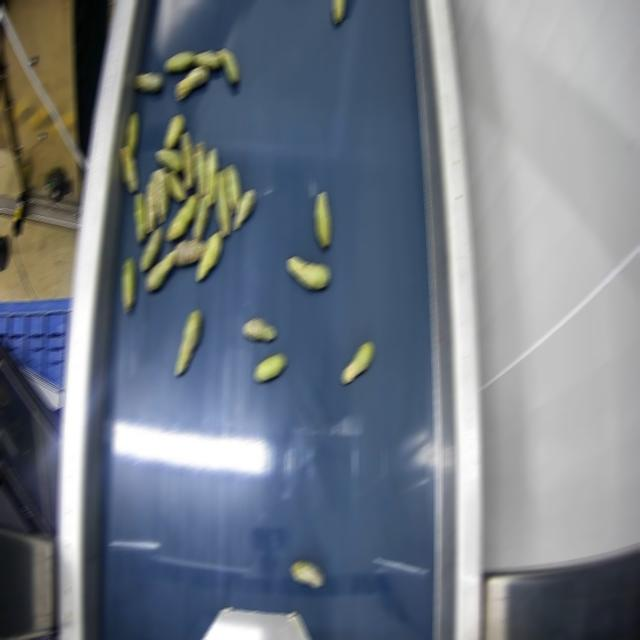Baby Potato: (175, 308, 202, 374), (286, 256, 330, 289), (168, 192, 198, 238), (342, 340, 374, 383), (196, 230, 222, 281), (146, 249, 176, 290), (175, 66, 207, 100), (290, 558, 324, 588), (253, 351, 286, 381), (215, 170, 230, 236), (140, 228, 162, 272), (314, 189, 330, 247), (233, 188, 255, 230), (172, 238, 205, 265), (242, 316, 276, 342), (192, 194, 210, 242), (144, 172, 158, 232), (193, 139, 207, 198), (120, 145, 137, 193), (216, 47, 238, 84), (180, 132, 194, 190), (121, 255, 135, 312), (205, 147, 218, 205), (155, 148, 183, 174), (225, 164, 240, 212), (163, 50, 194, 72), (164, 113, 184, 147), (134, 192, 146, 242), (124, 110, 137, 156), (134, 71, 162, 92), (193, 49, 221, 69), (332, 0, 344, 23)
